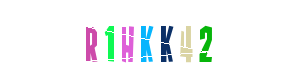1: (78, 0, 158, 80)
2: (166, 0, 246, 80)
4: (138, 0, 218, 80)
H: (105, 0, 185, 80)
K: (112, 0, 192, 80), (125, 0, 205, 80)
R: (69, 0, 149, 80)
